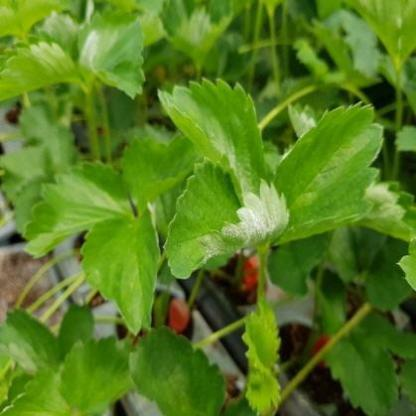Strawberry_Powdery_Mildew_Leaf: (273, 100, 385, 245), (163, 157, 291, 280), (157, 78, 268, 206)
